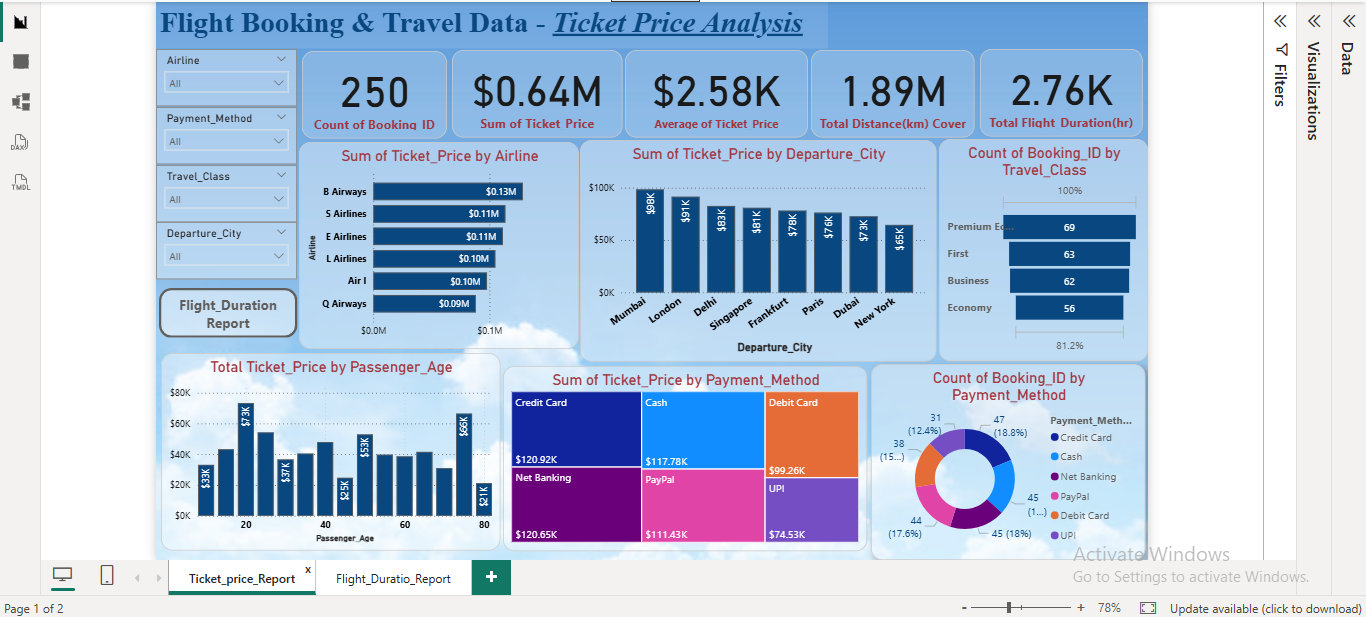

This screenshot's page, from the dashboard's own definition file:
{"tool":"powerbi","page":{"name":"Ticket_price_Report","canvas":[1280,720],"ordinal":0},"visuals":[{"type":"textbox","box":[0,0,867.1,60],"z":0},{"type":"card","fields":{"Values":["Count(flight_bookings.Booking_ID)"]},"box":[188.6,62.9,187.1,112.9],"z":1000},{"type":"card","fields":{"Values":["Sum(flight_bookings.Ticket_Price)"]},"box":[381.4,61.4,220,112.9],"z":2000},{"type":"card","fields":{"Values":["Sum(flight_bookings.Distance_km)"]},"box":[845.7,61.4,211.4,112.9],"z":3000},{"type":"card","fields":{"Values":["Sum(flight_bookings.Flight_Duration_hr)"]},"box":[1062.9,60,210,112.9],"z":4000},{"type":"barChart","fields":{"Category":["flight_bookings.Airline"],"Y":["Sum(flight_bookings.Ticket_Price)"]},"box":[184.3,180,361.4,267.1],"z":5000},{"type":"columnChart","fields":{"Y":["Sum(flight_bookings.Ticket_Price)"],"Category":["flight_bookings.Departure_City"]},"box":[547.1,178.6,460,285.7],"z":6000},{"type":"funnel","fields":{"Category":["flight_bookings.Travel_Class"],"Y":["CountNonNull(flight_bookings.Booking_ID)"]},"box":[1010,177.1,270,287.1],"z":7000},{"type":"treemap","fields":{"Group":["flight_bookings.Payment_Method"],"Values":["Sum(flight_bookings.Ticket_Price)"]},"box":[447.1,470,470,238.6],"z":8000},{"type":"donutChart","fields":{"Category":["flight_bookings.Payment_Method"],"Y":["CountNonNull(flight_bookings.Booking_ID)"]},"box":[922.9,467.1,354.3,252.9],"z":9000},{"type":"slicer","fields":{"Values":["flight_bookings.Airline"]},"box":[0,60,182.2,74.4],"z":10000},{"type":"slicer","fields":{"Values":["flight_bookings.Travel_Class"]},"box":[0,210,182.2,74.4],"z":11000},{"type":"slicer","fields":{"Values":["flight_bookings.Departure_City"]},"box":[0,284.4,182.2,74.4],"z":12000},{"type":"slicer","fields":{"Values":["flight_bookings.Payment_Method"]},"box":[0,135.6,182.2,74.4],"z":13000},{"type":"columnChart","fields":{"Category":["flight_bookings.Passenger_Age (bins)"],"Y":["Sum(flight_bookings.Ticket_Price)"]},"box":[6,453,438,255],"z":14000},{"type":"card","fields":{"Values":["Avg(flight_bookings.Ticket_Price)"]},"box":[605.7,61.4,235.7,112.9],"z":16000},{"type":"actionButton","box":[4.3,368.6,178.6,64.3],"z":16001}]}

Visuals, with their boxes on the page's 1280x720 design canvas (x1, y1, x2, y2). These are canvas units, not pixel positions in the 1366x617 screenshot, which may show the page scaled, cropped or inside an application window:
textbox: (x1=0, y1=0, x2=867, y2=60)
card - Count(flight_bookings.Booking_ID): (x1=189, y1=63, x2=376, y2=176)
card - Sum(flight_bookings.Ticket_Price): (x1=381, y1=61, x2=601, y2=174)
card - Sum(flight_bookings.Distance_km): (x1=846, y1=61, x2=1057, y2=174)
card - Sum(flight_bookings.Flight_Duration_hr): (x1=1063, y1=60, x2=1273, y2=173)
barChart - flight_bookings.Airline x Sum(flight_bookings.Ticket_Price): (x1=184, y1=180, x2=546, y2=447)
columnChart - Sum(flight_bookings.Ticket_Price) x flight_bookings.Departure_City: (x1=547, y1=179, x2=1007, y2=464)
funnel - flight_bookings.Travel_Class x CountNonNull(flight_bookings.Booking_ID): (x1=1010, y1=177, x2=1280, y2=464)
treemap - flight_bookings.Payment_Method x Sum(flight_bookings.Ticket_Price): (x1=447, y1=470, x2=917, y2=709)
donutChart - flight_bookings.Payment_Method x CountNonNull(flight_bookings.Booking_ID): (x1=923, y1=467, x2=1277, y2=720)
slicer - flight_bookings.Airline: (x1=0, y1=60, x2=182, y2=134)
slicer - flight_bookings.Travel_Class: (x1=0, y1=210, x2=182, y2=284)
slicer - flight_bookings.Departure_City: (x1=0, y1=284, x2=182, y2=359)
slicer - flight_bookings.Payment_Method: (x1=0, y1=136, x2=182, y2=210)
columnChart - flight_bookings.Passenger_Age (bins) x Sum(flight_bookings.Ticket_Price): (x1=6, y1=453, x2=444, y2=708)
card - Avg(flight_bookings.Ticket_Price): (x1=606, y1=61, x2=841, y2=174)
actionButton: (x1=4, y1=369, x2=183, y2=433)
